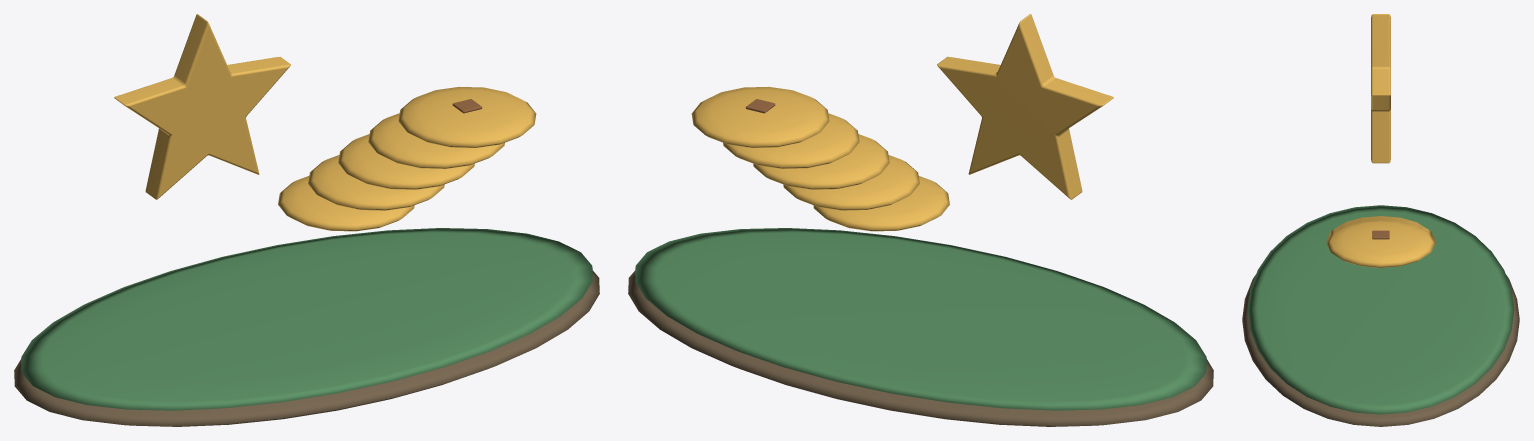
The model's file is gold-prize.glb.
The picture shows the model from 3 angles, left to right: view 1: azimuth 30°, elevation 25°; view 2: azimuth 150°, elevation 25°; view 3: azimuth 270°, elevation 25°; orthographic projection. The views are drawn at different scales.
Visible parts, largest first — view 1: gold-prize_surface_01, gold-prize_surface_02, gold-prize_surface_00; view 2: gold-prize_surface_01, gold-prize_surface_02, gold-prize_surface_00; view 3: gold-prize_surface_01, gold-prize_surface_02, gold-prize_surface_00.
Boxes of the visible parts, x1,y1,x2,y2 form: gold-prize_surface_01: (21,228,592,410); gold-prize_surface_02: (114,14,536,231); gold-prize_surface_00: (14,270,599,426); gold-prize_surface_01: (635,228,1206,410); gold-prize_surface_02: (691,14,1113,231); gold-prize_surface_00: (628,270,1213,426); gold-prize_surface_01: (1247,205,1514,414); gold-prize_surface_02: (1326,14,1435,267); gold-prize_surface_00: (1242,275,1519,426).
Size of the model in its own units: 4.56 by 2.77 by 2.5.
